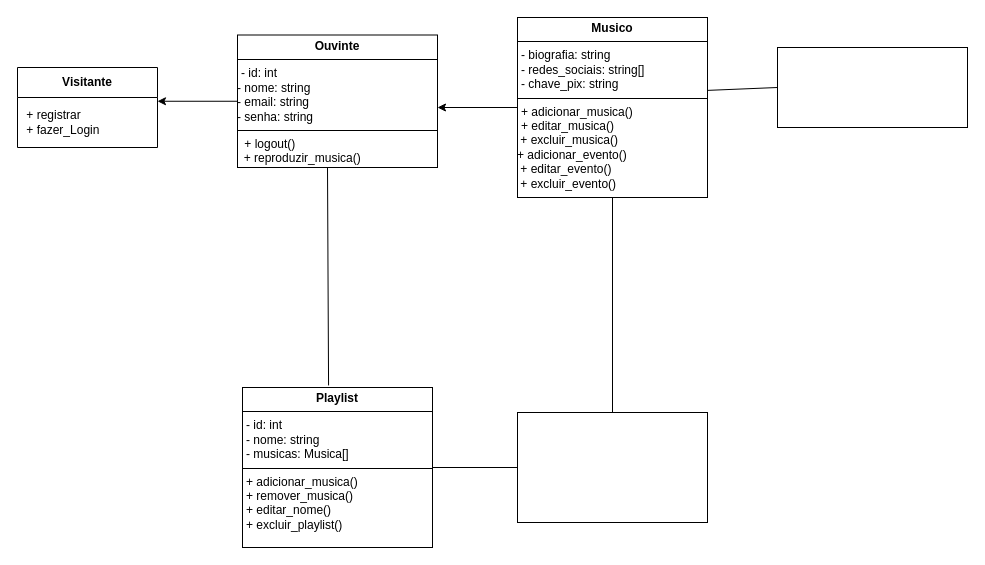
The diagram is 985 pixels wide and 565 high, and some of its shapes have lost their labels. The centre of each missing label's shape, as x and y in pixels:
"Evento - id: int - nome: string - data: date" goes at (x=872, y=87).
"Musica - id: int - titulo: string - genero: string - arquivo: string" goes at (x=612, y=467).
